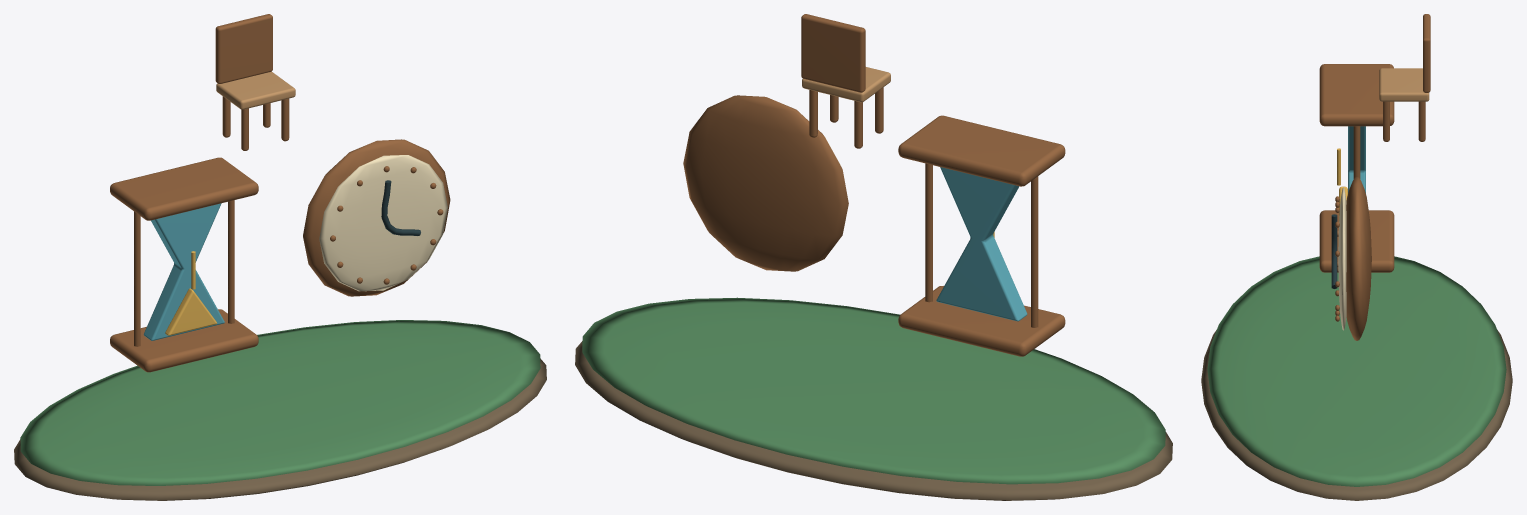
Rendered from complete-third-temporary-time.glb.
3 views of the same model, side by side, from view 1: azimuth 30°, elevation 25°; view 2: azimuth 150°, elevation 25°; view 3: azimuth 270°, elevation 25° (orthographic). The views are drawn at different scales.
Parts seen in each view (by area): view 1: complete-third-temporary-time_surface_01, complete-third-temporary-time_surface_02, complete-third-temporary-time_surface_05, complete-third-temporary-time_surface_00, complete-third-temporary-time_surface_03, complete-third-temporary-time_surface_07, complete-third-temporary-time_surface_04; view 2: complete-third-temporary-time_surface_01, complete-third-temporary-time_surface_02, complete-third-temporary-time_surface_00, complete-third-temporary-time_surface_03, complete-third-temporary-time_surface_07; view 3: complete-third-temporary-time_surface_01, complete-third-temporary-time_surface_02, complete-third-temporary-time_surface_00, complete-third-temporary-time_surface_07, complete-third-temporary-time_surface_05, complete-third-temporary-time_surface_03, complete-third-temporary-time_surface_06.
Boxes of the visible parts, <box> form: complete-third-temporary-time_surface_01: <box>20,320,540,485</box>; complete-third-temporary-time_surface_02: <box>110,14,450,372</box>; complete-third-temporary-time_surface_05: <box>319,155,447,291</box>; complete-third-temporary-time_surface_00: <box>14,358,546,500</box>; complete-third-temporary-time_surface_03: <box>143,203,224,340</box>; complete-third-temporary-time_surface_07: <box>216,71,295,109</box>; complete-third-temporary-time_surface_04: <box>165,251,217,335</box>; complete-third-temporary-time_surface_01: <box>582,297,1165,484</box>; complete-third-temporary-time_surface_02: <box>683,14,1065,356</box>; complete-third-temporary-time_surface_00: <box>575,341,1172,500</box>; complete-third-temporary-time_surface_03: <box>936,167,1027,321</box>; complete-third-temporary-time_surface_07: <box>802,67,890,102</box>; complete-third-temporary-time_surface_01: <box>1207,256,1506,486</box>; complete-third-temporary-time_surface_02: <box>1319,14,1430,340</box>; complete-third-temporary-time_surface_00: <box>1201,330,1512,500</box>; complete-third-temporary-time_surface_07: <box>1379,68,1429,101</box>; complete-third-temporary-time_surface_05: <box>1338,187,1346,330</box>; complete-third-temporary-time_surface_03: <box>1348,126,1365,193</box>; complete-third-temporary-time_surface_06: <box>1331,214,1337,288</box>.
Bounding box in the file's own units: 4.56 × 3.27 × 2.5.
